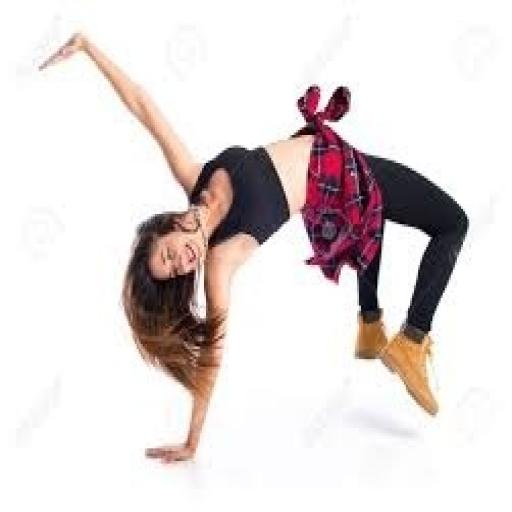dancing: (35, 26, 471, 472)
